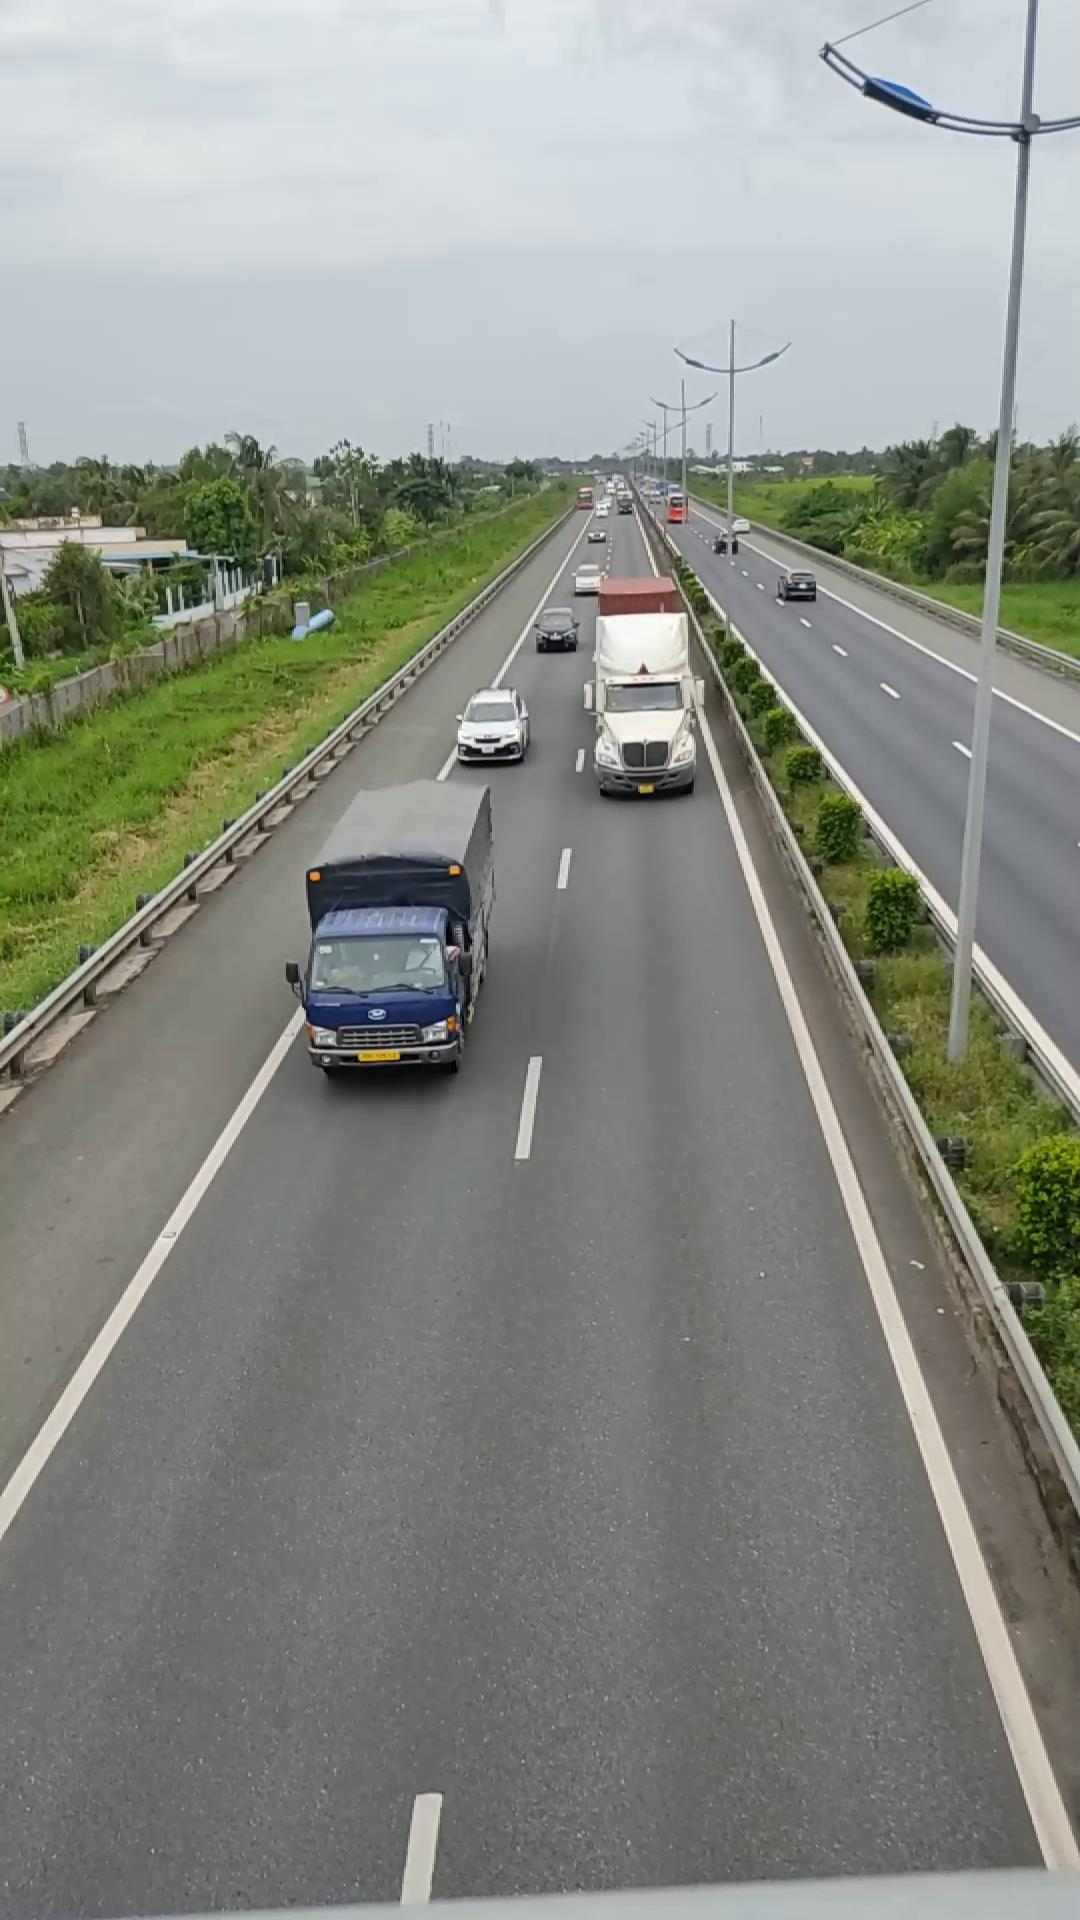car: (455, 688, 533, 765)
container: (579, 570, 705, 795)
truck: (294, 774, 498, 1077)
